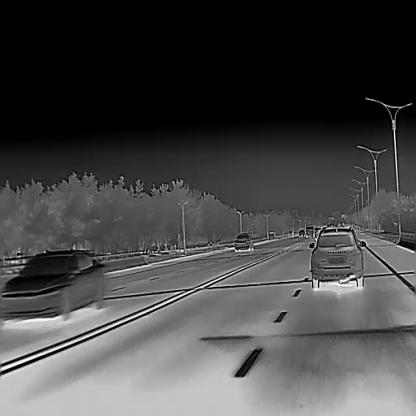car: (0, 247, 104, 321), (308, 225, 366, 288), (234, 233, 254, 250), (268, 229, 274, 238), (298, 229, 304, 237)
truck: (306, 223, 312, 238)
